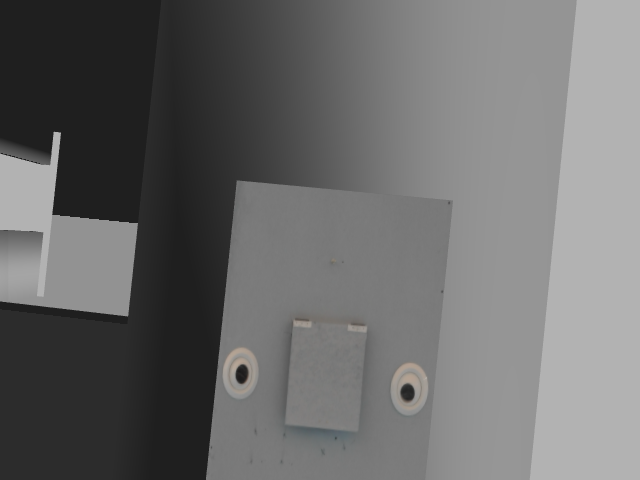facade: (219, 316, 430, 435)
